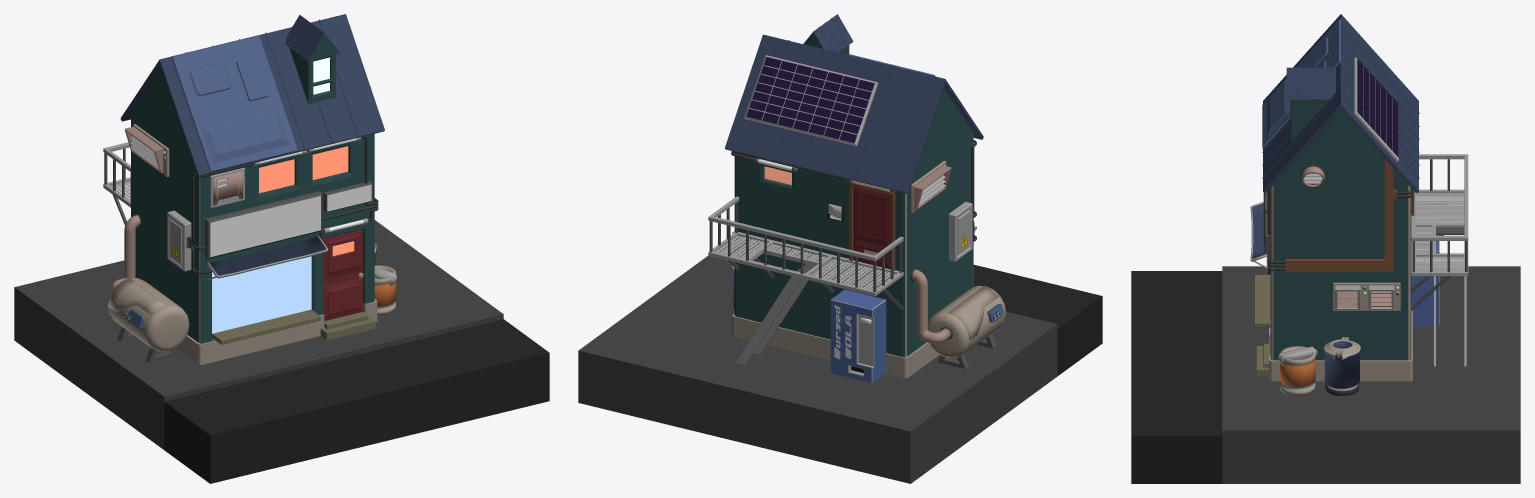
File: House1.fbx
3 views of the same model, side by side, from view 1: azimuth 30°, elevation 25°; view 2: azimuth 150°, elevation 25°; view 3: azimuth 270°, elevation 25° (orthographic). The views are drawn at different scales.
Visible parts, largest first — view 1: Plane.013; view 2: Plane.013; view 3: Plane.013.
Part boxes in pixels (left/top/right/bottom): Plane.013: left=14, top=14, right=549, bottom=483; Plane.013: left=578, top=14, right=1102, bottom=483; Plane.013: left=1131, top=14, right=1520, bottom=483.
Bounding box in the file's own units: 703 × 688 × 703.
